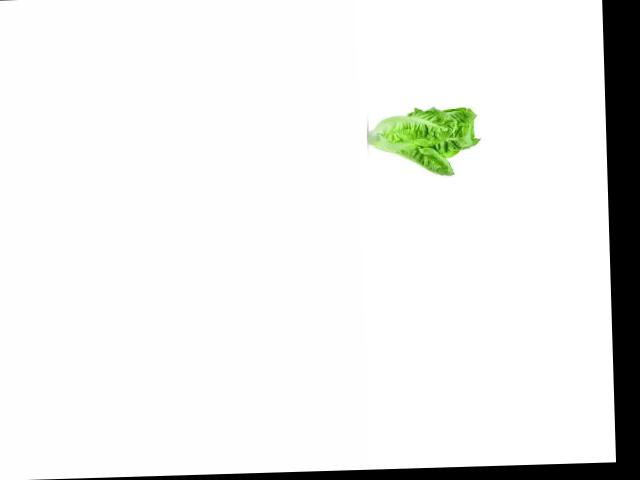lettuce: (371, 101, 482, 178)
